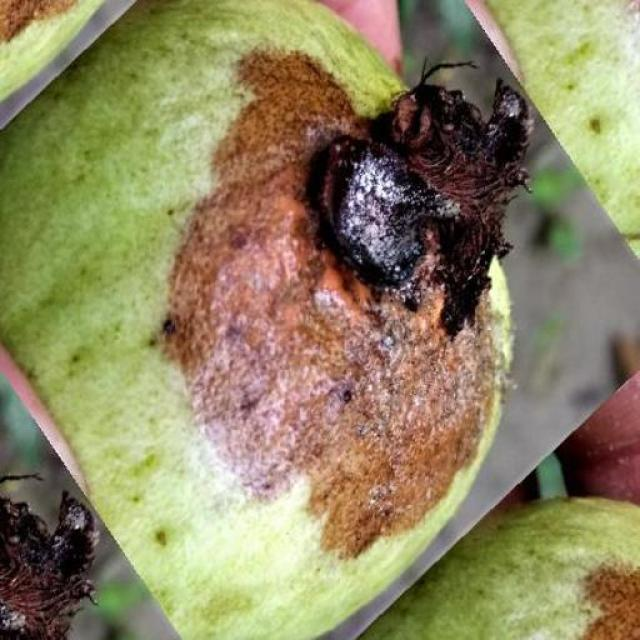Styler_Root: (0, 0, 528, 640), (359, 498, 640, 639)
